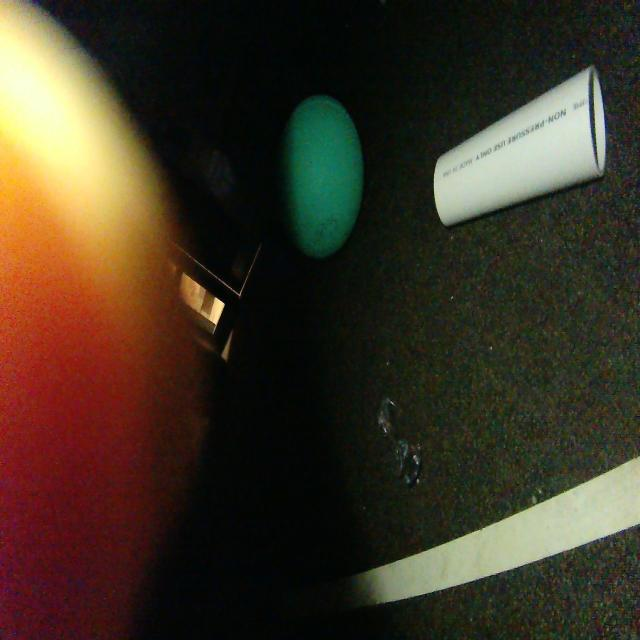algae: (272, 94, 365, 263)
coral: (429, 55, 612, 237)
